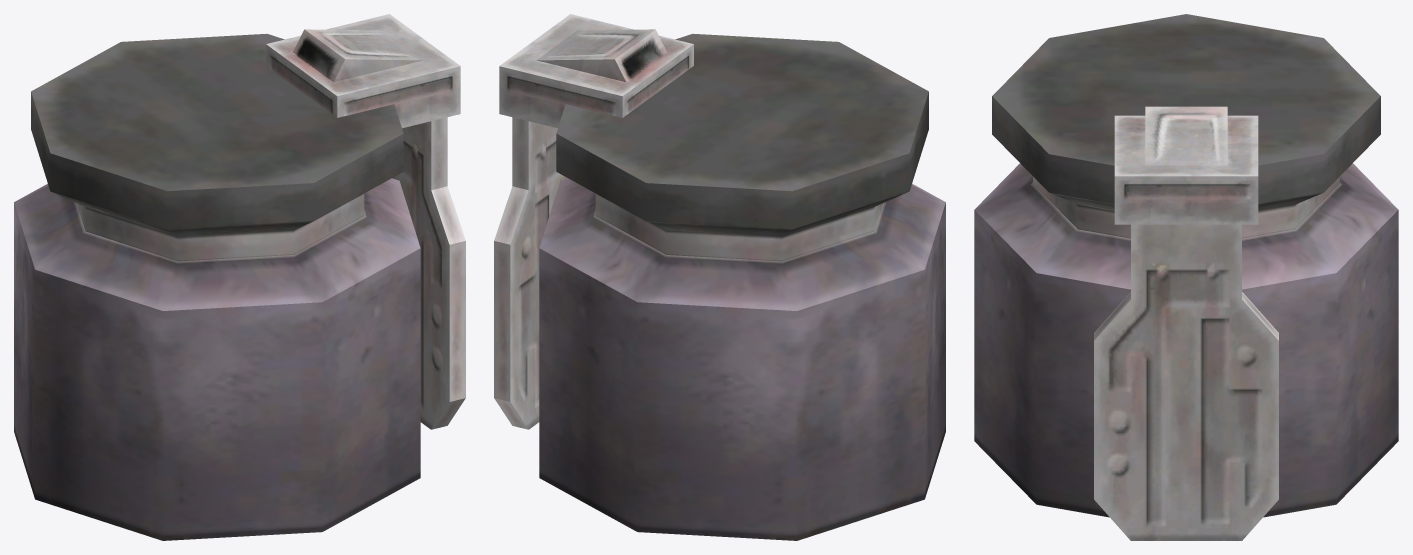
Rendered from eqp_comp_nutrient_supplements_solid.fbx.
3 renders of one model, left to right at view 1: azimuth 30°, elevation 25°; view 2: azimuth 150°, elevation 25°; view 3: azimuth 270°, elevation 25°, orthographic.
Visible parts, largest first — view 1: mesh_node; view 2: mesh_node; view 3: mesh_node.
Boxes of the visible parts, left/top/right/bottom form: mesh_node: left=14, top=14, right=465, bottom=540; mesh_node: left=494, top=14, right=945, bottom=540; mesh_node: left=974, top=14, right=1398, bottom=540.
Bounding box in the file's own units: 0.2804 × 0.2641 × 0.2621.
Materials: 2 (2 with a texture image).
